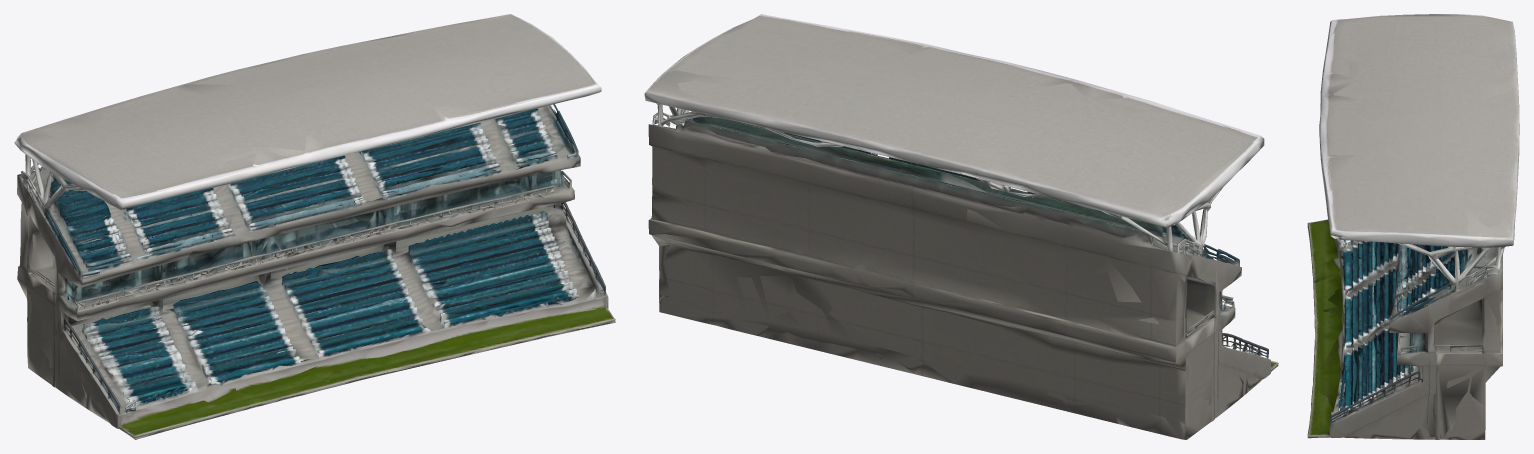
Rendered from stand.glb.
3 renders of one model, left to right at view 1: azimuth 30°, elevation 25°; view 2: azimuth 150°, elevation 25°; view 3: azimuth 270°, elevation 25°, orthographic. The views are drawn at different scales.
Parts seen in each view (by area): view 1: stand, standLOD; view 2: stand, standLOD; view 3: stand, standLOD.
Part boxes in pixels (x1,y1,x2,y2): stand: (14,14,615,439); standLOD: (14,14,613,438); stand: (644,14,1278,439); standLOD: (647,22,1267,438); stand: (1307,14,1519,439); standLOD: (1307,16,1519,439).
Bounding box in the file's own units: 40 × 18.17 × 16.02.
1 material, 1 textured.
